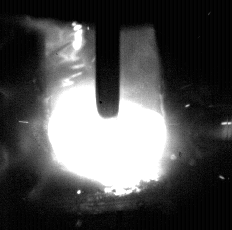arame: (96, 0, 121, 119)
poca: (46, 0, 170, 230)
